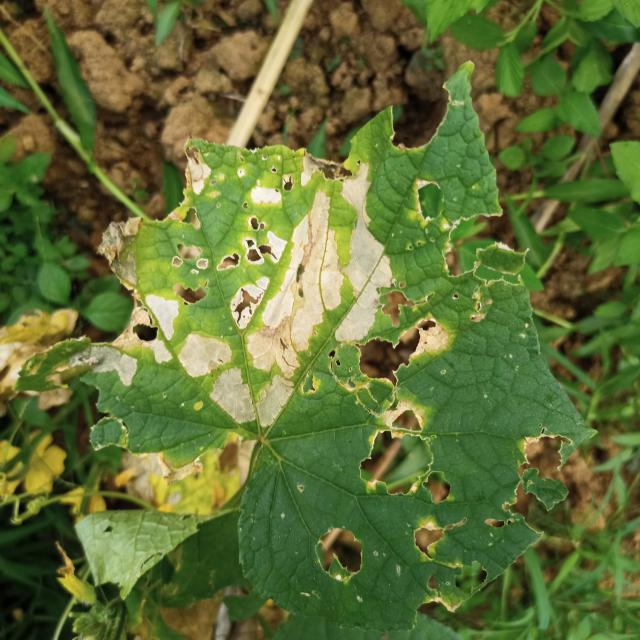disease_cucumber: (104, 145, 507, 439)
